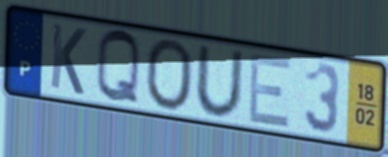3: (302, 61, 341, 137)
E: (246, 51, 294, 131)
K: (48, 20, 88, 98)
O: (144, 37, 196, 113)
Q: (94, 27, 143, 108)
U: (193, 43, 246, 121)
